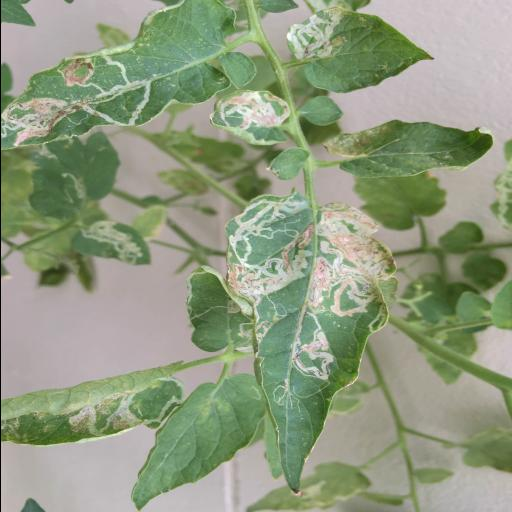Leaf Miner: (224, 190, 400, 498), (0, 0, 238, 152), (0, 374, 186, 448), (284, 6, 436, 96), (208, 91, 292, 145)
